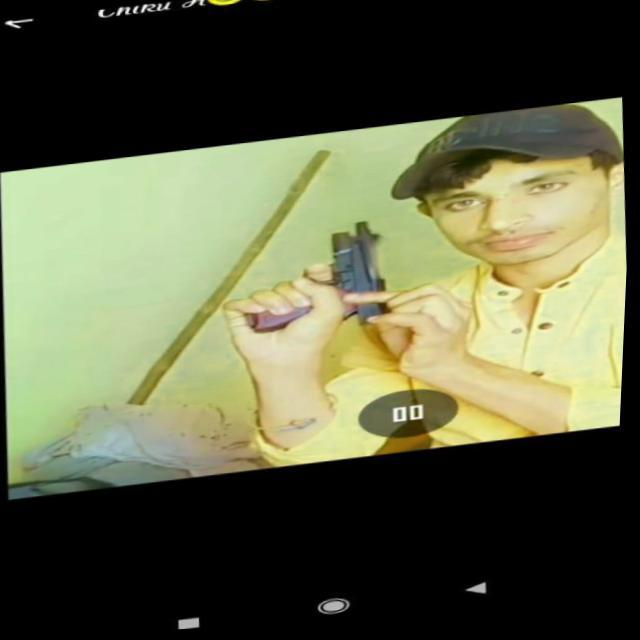weapon: (228, 218, 410, 345)
